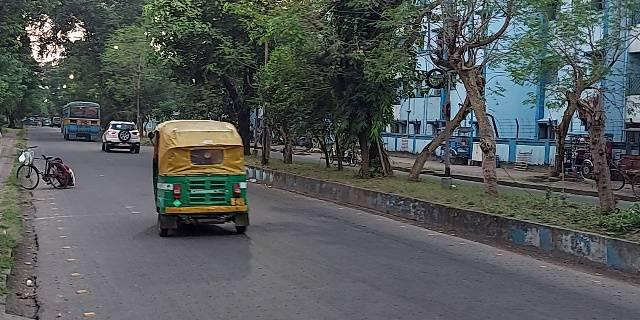Autorickshaw: (154, 118, 252, 237)
Bus: (61, 99, 102, 138)
Car: (108, 118, 140, 153)
